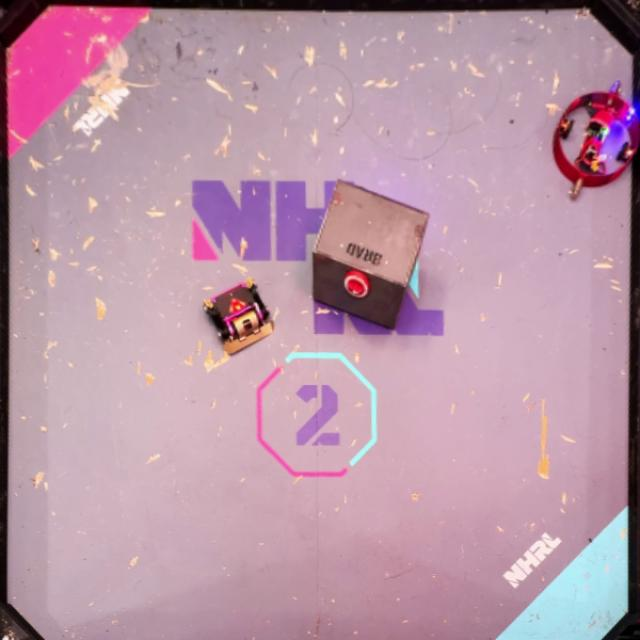housebot: (311, 178, 431, 328)
robot: (552, 81, 640, 200), (204, 279, 276, 355)
